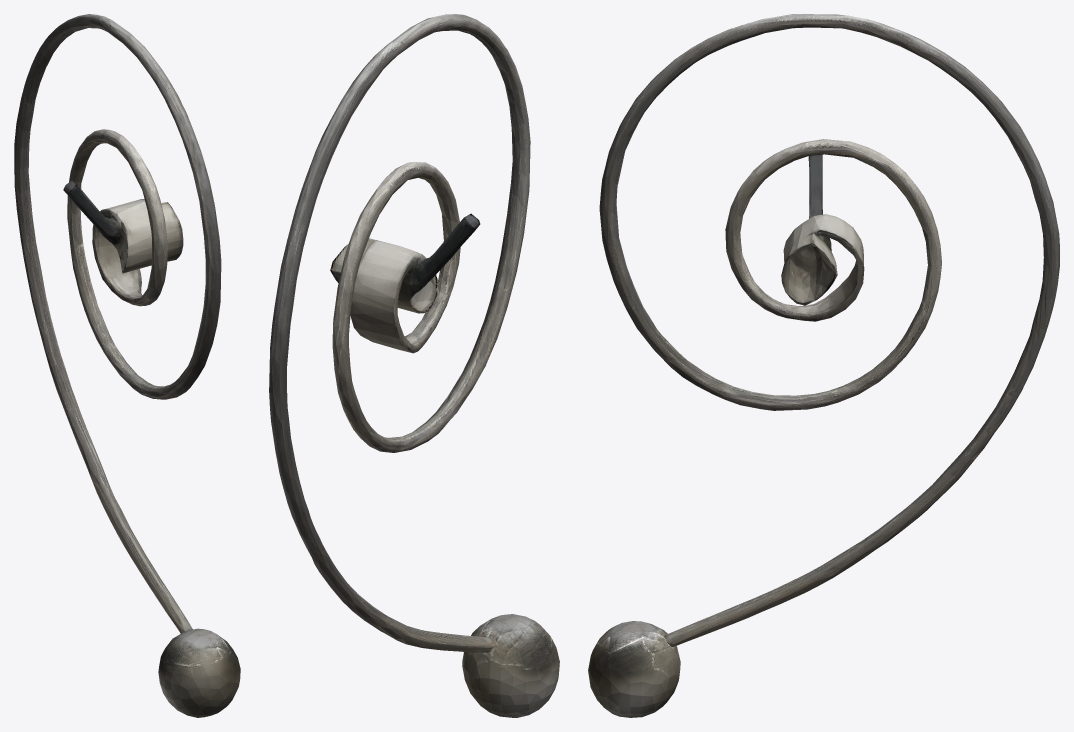
Rendered from boucle.glb.
3 views of the same model, side by side, from view 1: azimuth 30°, elevation 25°; view 2: azimuth 150°, elevation 25°; view 3: azimuth 270°, elevation 25° (orthographic). The views are drawn at different scales.
Parts seen in each view (by area): view 1: world; view 2: world; view 3: world.
Boxes of the visible parts, x1,y1,x2,y2 form: world: [14, 14, 240, 717]; world: [269, 14, 559, 717]; world: [588, 14, 1059, 717].
Size of the model in its own units: 0.1889 by 1 by 0.6097.
Materials: 1 (1 with a texture image).
